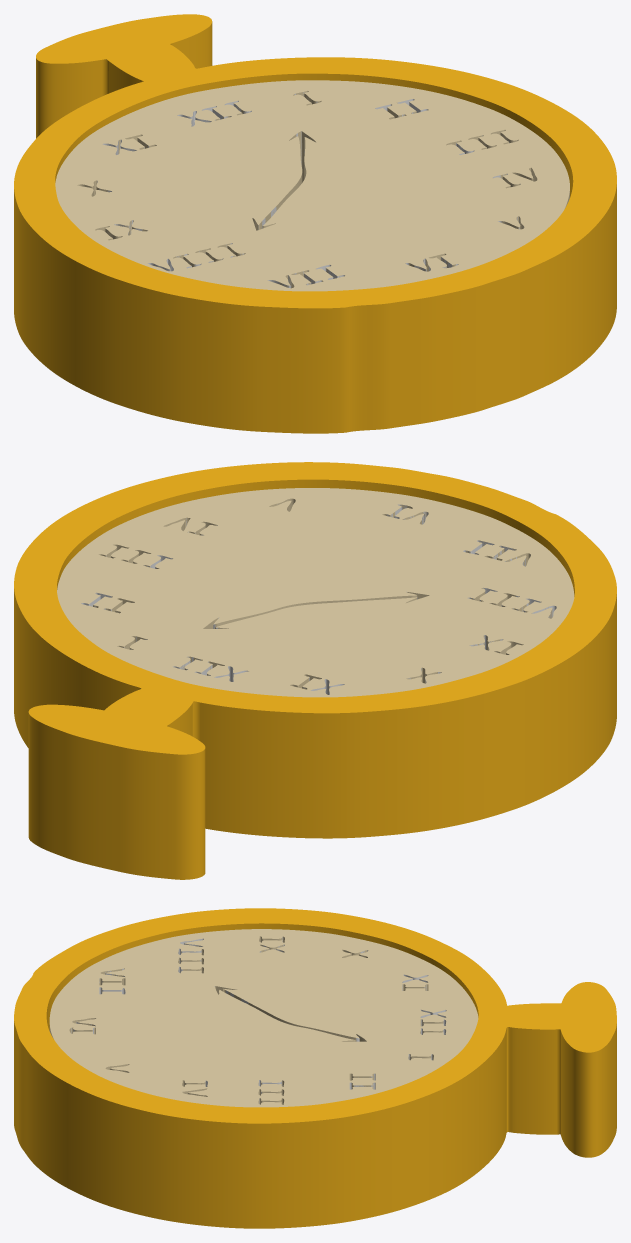
The model's file is smallclocklock.fbx.
3 views of the same model, one above another, from view 1: azimuth 30°, elevation 25°; view 2: azimuth 150°, elevation 25°; view 3: azimuth 270°, elevation 25° (orthographic). The views are drawn at different scales.
Parts seen in each view (by area): view 1: Curve.035, Curve.038, Curve.004; view 2: Curve.035, Curve.038, Curve.004; view 3: Curve.035, Curve.038, Curve.004.
Boxes of the visible parts, bbox=[...] form: Curve.035: bbox=[14, 14, 616, 433]; Curve.038: bbox=[55, 80, 569, 291]; Curve.004: bbox=[97, 92, 523, 288]; Curve.035: bbox=[14, 462, 616, 879]; Curve.038: bbox=[57, 488, 574, 697]; Curve.004: bbox=[81, 504, 556, 694]; Curve.035: bbox=[14, 908, 616, 1228]; Curve.038: bbox=[49, 929, 478, 1107]; Curve.004: bbox=[71, 937, 446, 1103].
Size of the model in its own units: 76.29 by 17.36 by 90.27.
